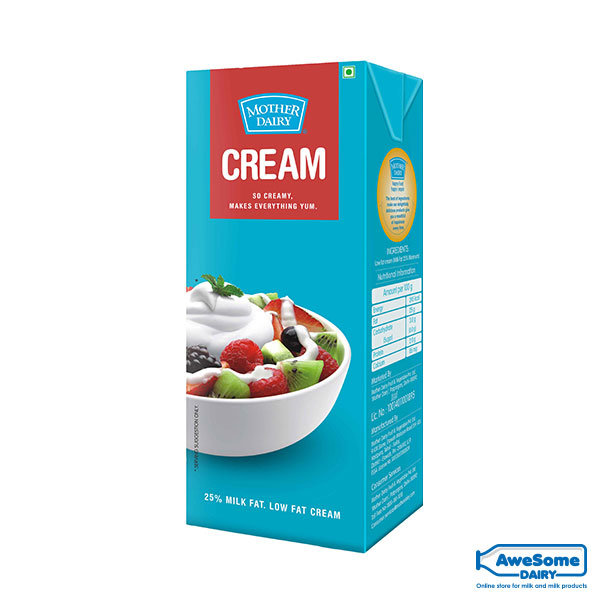Mother_Dairy: (226, 90, 318, 139)
